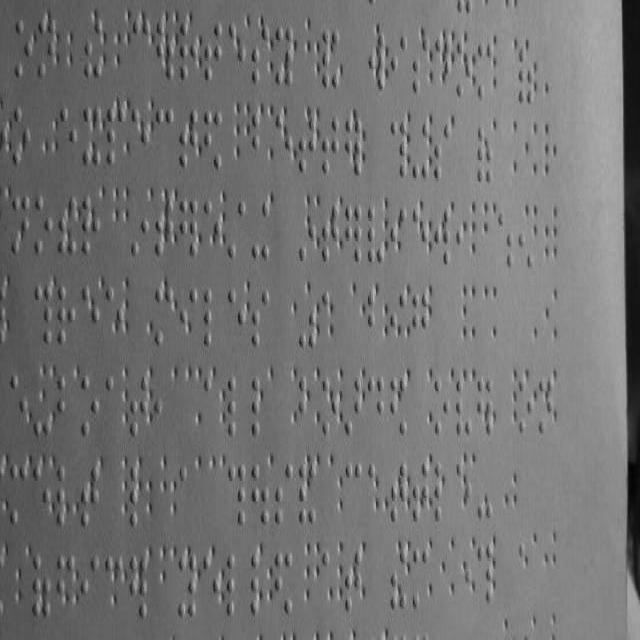braiile: (226, 548, 247, 622), (202, 284, 224, 352), (343, 456, 363, 526), (56, 279, 76, 348), (80, 370, 100, 439), (274, 461, 294, 530), (366, 370, 386, 439), (13, 11, 32, 82), (34, 193, 54, 260), (80, 551, 100, 618), (102, 368, 121, 436), (10, 370, 28, 439), (10, 461, 28, 530), (130, 370, 148, 439), (59, 104, 77, 172), (204, 17, 222, 84), (322, 113, 340, 180), (228, 373, 246, 440), (106, 106, 126, 166), (433, 118, 451, 184), (390, 28, 408, 92), (252, 287, 270, 349), (178, 460, 196, 522), (434, 374, 451, 439), (155, 104, 173, 164), (409, 292, 428, 348)
